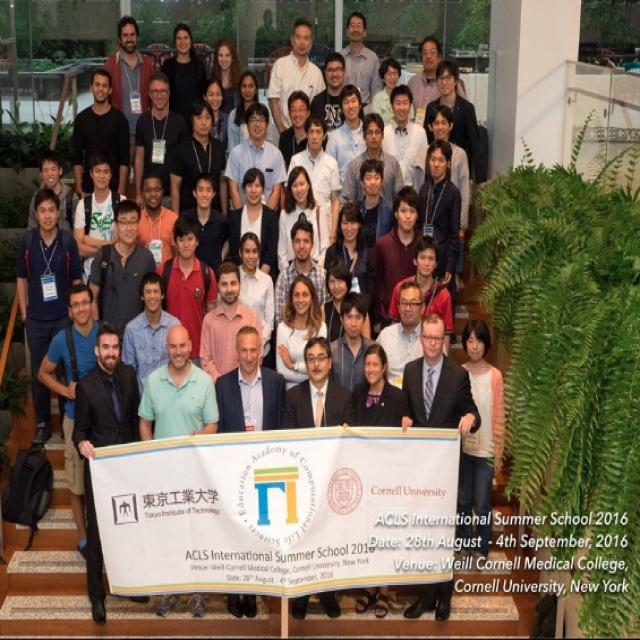body: (400, 310, 484, 625), (136, 323, 221, 619), (70, 321, 152, 626), (214, 323, 291, 619), (280, 334, 354, 622), (343, 343, 412, 620), (14, 185, 85, 448), (36, 280, 102, 562), (452, 316, 509, 565), (88, 199, 158, 351), (154, 210, 219, 371), (415, 138, 462, 347), (101, 14, 157, 186), (68, 65, 134, 203), (368, 183, 426, 340), (421, 55, 487, 190), (120, 269, 185, 403), (386, 231, 454, 358), (131, 70, 187, 222), (265, 15, 327, 150), (374, 278, 448, 390), (198, 262, 264, 386), (71, 149, 129, 289), (286, 110, 344, 248), (221, 100, 290, 213), (168, 96, 230, 221), (338, 110, 407, 216), (424, 100, 474, 243), (273, 270, 330, 394), (171, 169, 232, 282), (224, 165, 281, 285), (272, 217, 334, 327), (275, 164, 332, 274), (308, 50, 368, 154), (403, 34, 469, 125), (327, 289, 383, 395), (128, 168, 180, 276), (381, 83, 429, 196), (316, 255, 373, 348), (322, 198, 374, 294), (158, 21, 210, 116), (334, 10, 385, 106), (323, 82, 369, 185), (225, 67, 278, 156), (26, 148, 80, 233), (239, 231, 275, 358), (350, 155, 395, 248), (369, 55, 416, 127), (206, 37, 244, 117), (278, 88, 312, 174), (201, 75, 231, 152), (34, 7, 75, 55), (589, 31, 640, 68), (254, 7, 284, 69)
